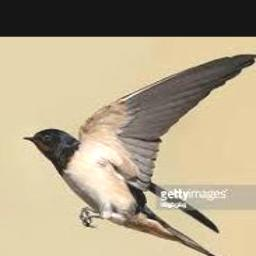Swallow: (21, 54, 256, 256)
